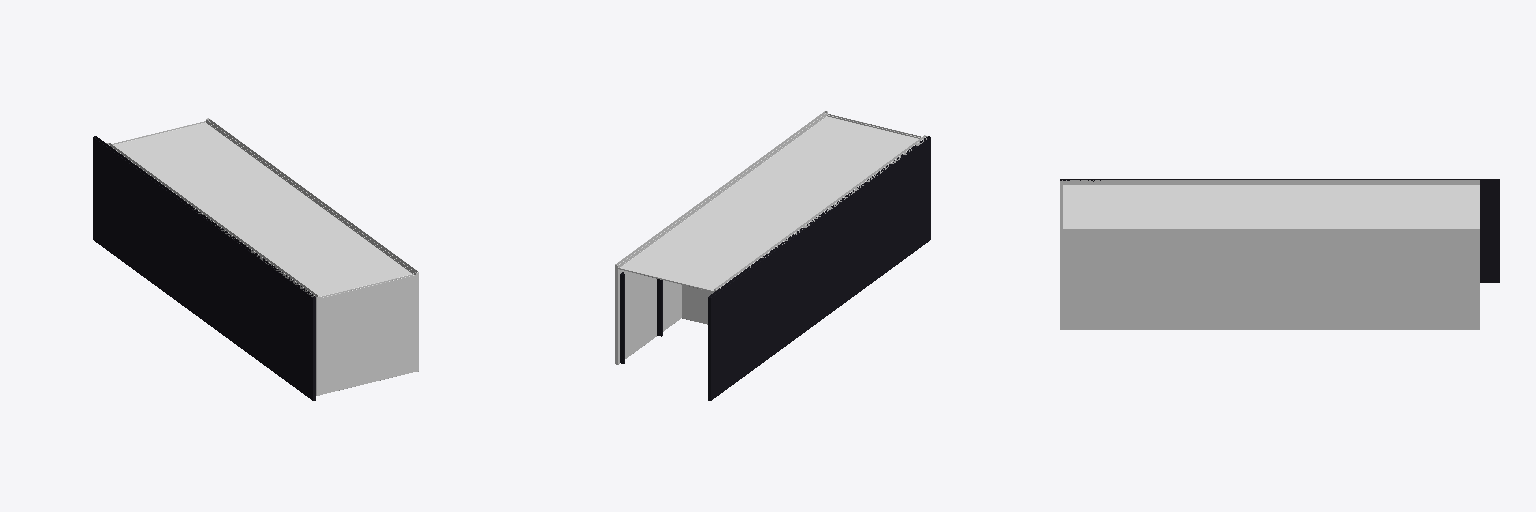
3 renders of one model, left to right at view 1: azimuth 30°, elevation 25°; view 2: azimuth 150°, elevation 25°; view 3: azimuth 270°, elevation 25°, orthographic.
Parts seen in each view (by area): view 1: SM_Kitchen_01_Base; view 2: SM_Kitchen_01_Base; view 3: SM_Kitchen_01_Base.
Boxes of the visible parts, x1=… form: SM_Kitchen_01_Base: x1=93, y1=118, x2=418, y2=400; SM_Kitchen_01_Base: x1=615, y1=111, x2=930, y2=400; SM_Kitchen_01_Base: x1=1060, y1=179, x2=1499, y2=329.
Bounding box in the file's own units: 0.6199 × 0.5759 × 2.23.
3 materials, 3 textured.